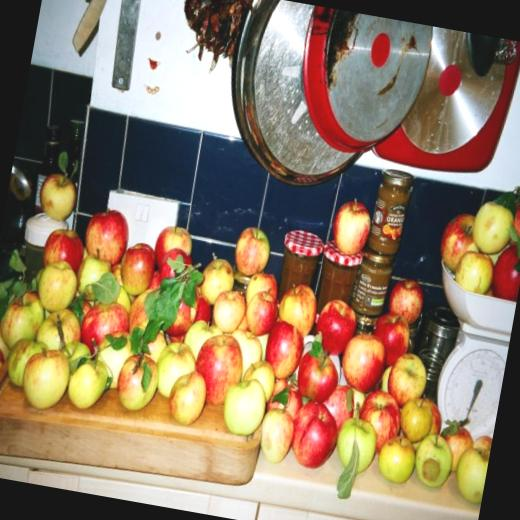Apple: (0, 181, 520, 503), (435, 177, 520, 299), (76, 207, 128, 276), (329, 197, 376, 256), (35, 174, 79, 223)
